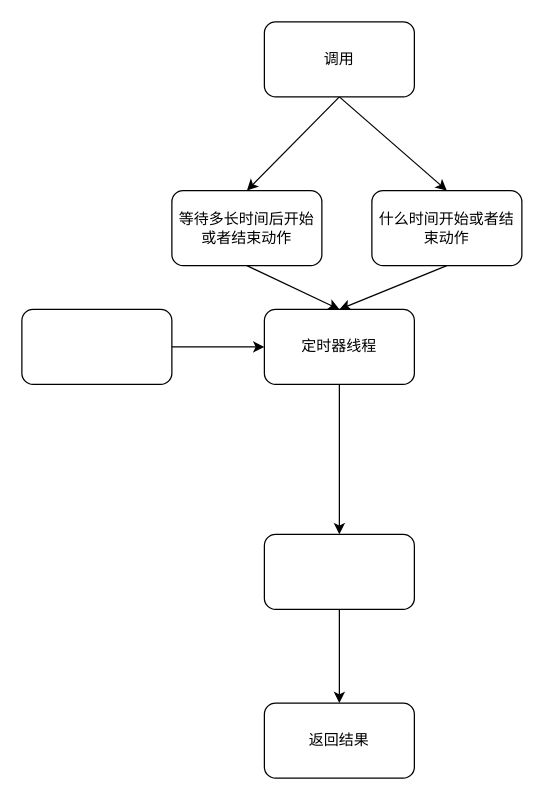
Image size: 544x800. Some labels were removed from this diagram. The shapes that lost their labels are listed below. From the top down, each one's centre as x and y in pixels, then its label:
At point 96,346: "看门狗如果定时器里没有任务了就关掉".
At point 338,571: "执行动作".
